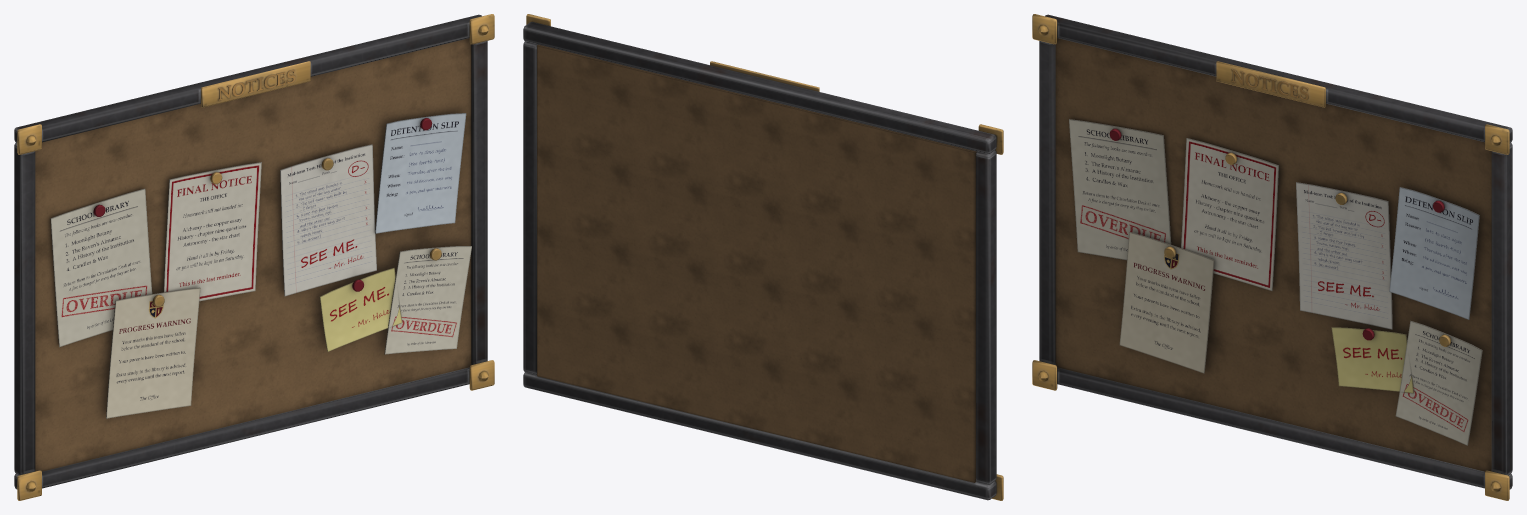
The model's file is OverdueNotices.fbx.
3 renders of one model, left to right at view 1: azimuth 30°, elevation 25°; view 2: azimuth 150°, elevation 25°; view 3: azimuth 330°, elevation 25°, orthographic.
Visible parts, largest first — view 1: OverdueNotices; view 2: OverdueNotices; view 3: OverdueNotices.
Part boxes in pixels (left/top/right/bottom): OverdueNotices: left=14, top=14, right=494, bottom=500; OverdueNotices: left=523, top=14, right=1003, bottom=500; OverdueNotices: left=1032, top=14, right=1512, bottom=500.
Bounding box in the file's own units: 392 × 292 × 18.6.
